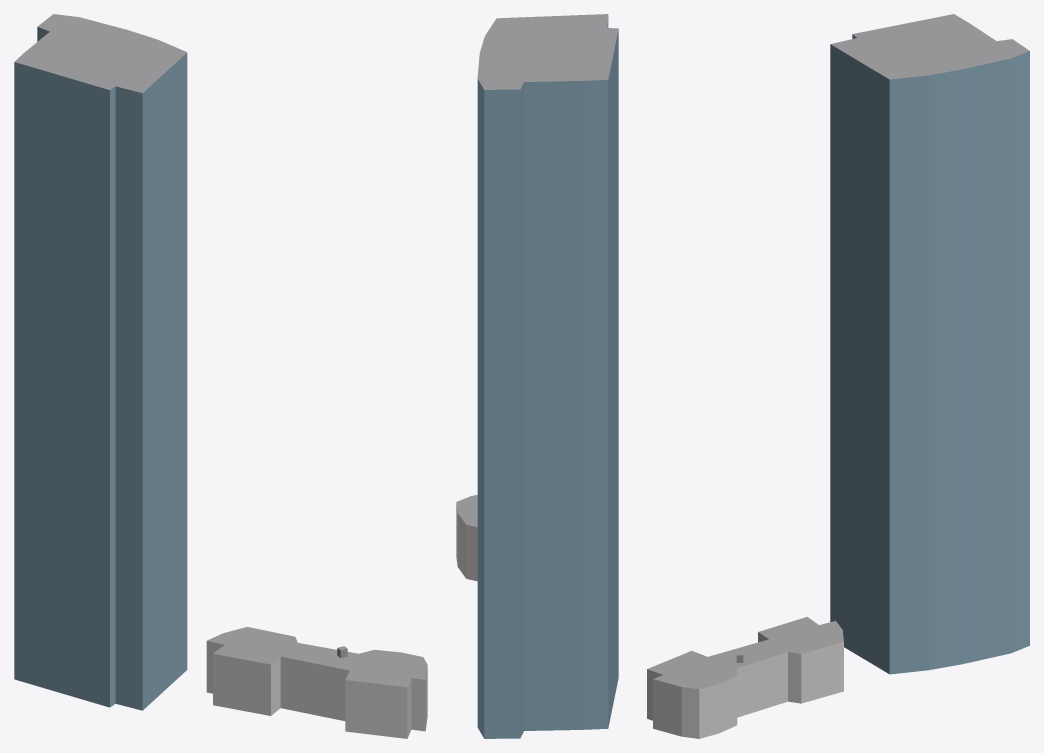
The model's file is building_-2_2.glb.
3 renders of one model, left to right at view 1: azimuth 30°, elevation 25°; view 2: azimuth 150°, elevation 25°; view 3: azimuth 270°, elevation 25°, orthographic. The views are drawn at different scales.
Parts seen in each view (by area): view 1: glass_blue, roof, concrete_light; view 2: glass_blue, roof, concrete_light; view 3: glass_blue, roof, concrete_light.
Part boxes in pixels (x1=…): glass_blue: x1=14, y1=27, x2=187, y2=710; roof: x1=14, y1=14, x2=427, y2=687; concrete_light: x1=206, y1=641, x2=427, y2=738; glass_blue: x1=477, y1=16, x2=618, y2=738; roof: x1=456, y1=14, x2=618, y2=526; concrete_light: x1=456, y1=504, x2=477, y2=581; glass_blue: x1=830, y1=34, x2=1029, y2=674; roof: x1=647, y1=14, x2=1029, y2=689; concrete_light: x1=647, y1=632, x2=843, y2=738.
Bounding box in the file's own units: 63.06 × 134 × 78.38.
